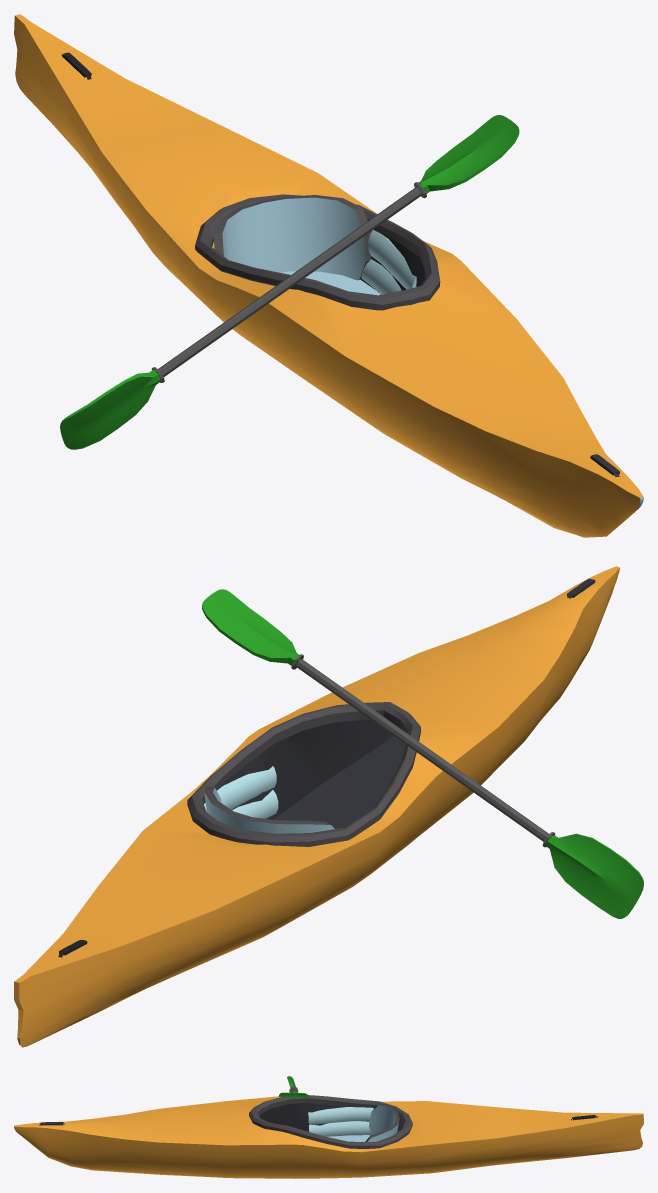
File: kayak.fbx
3 renders of one model, top to bottom at view 1: azimuth 30°, elevation 25°; view 2: azimuth 150°, elevation 25°; view 3: azimuth 270°, elevation 25°, orthographic. The views are drawn at different scales.
Visible parts, largest first — view 1: kayak; view 2: kayak; view 3: kayak.
Part boxes in pixels (left/top/right/bottom): kayak: left=14, top=14, right=643, bottom=537; kayak: left=14, top=566, right=643, bottom=1047; kayak: left=14, top=1076, right=643, bottom=1178.
Size of the model in its own units: 15.88 by 7.89 by 38.16.
